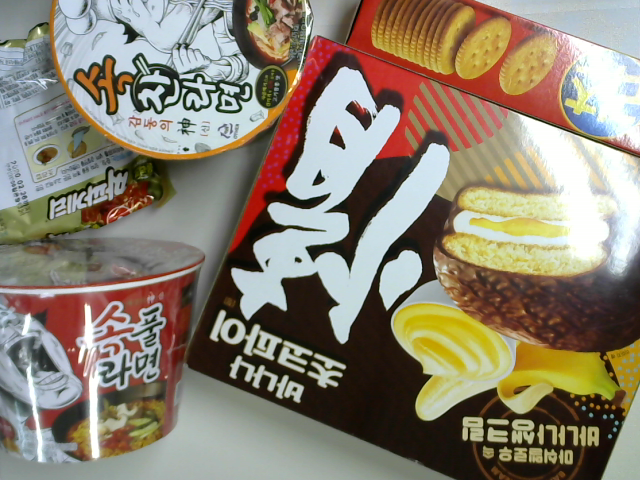Choco_Pie_Banana: (177, 32, 640, 479)
Hejangchan: (51, 1, 318, 166)
Hejangpul: (1, 230, 205, 465)
Olive_Chapaghetti: (1, 11, 177, 240)
Ritz_Cracker: (331, 1, 640, 161)
